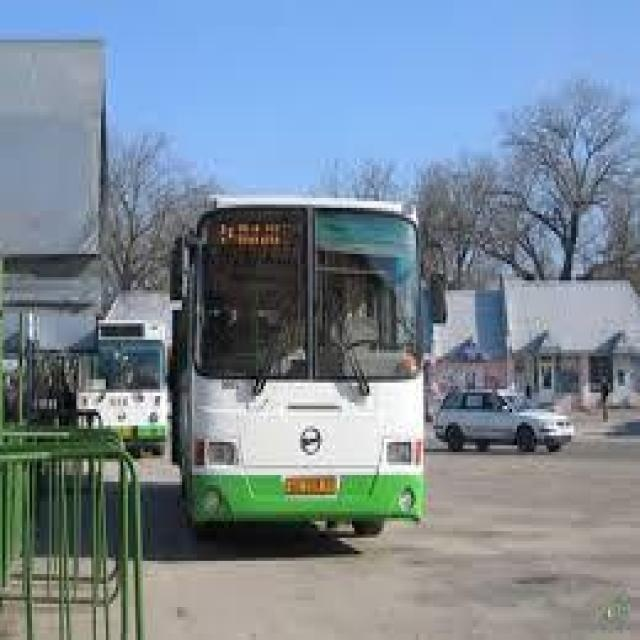Bus: (167, 192, 431, 558)
